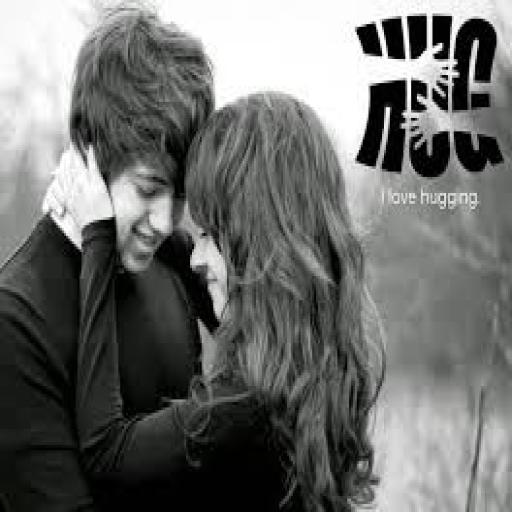hugging: (0, 0, 390, 509)
